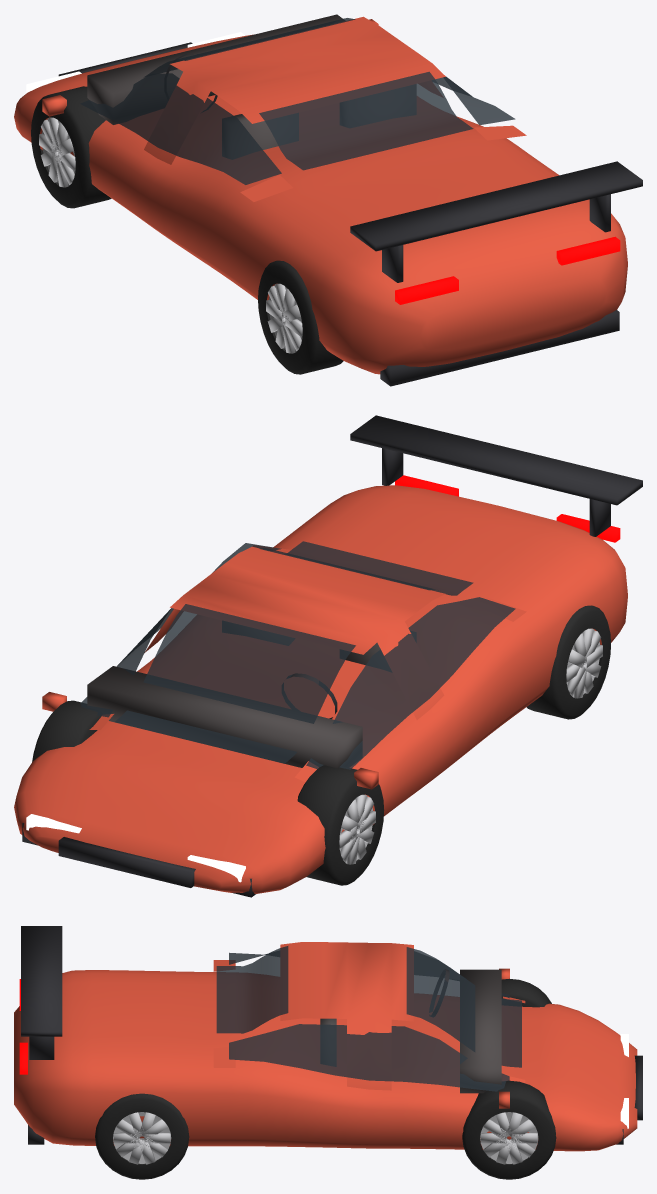
Rendered from car06_vortex.glb.
The picture shows the model from 3 angles, top to bottom: view 1: azimuth 30°, elevation 25°; view 2: azimuth 150°, elevation 25°; view 3: azimuth 270°, elevation 25°; orthographic projection. The views are drawn at different scales.
Visible parts, largest first — view 1: car06_vortex_Body, car06_vortex_Cabin, car06_vortex_GlassRear, car06_vortex_Glass, car06_vortex_Interior, car06_vortex_Wheel_FL, car06_vortex_Wheel_RL, car06_vortex_Lights_Rear, car06_vortex_GlassFront, car06_vortex_Lights_Front; view 2: car06_vortex_Body, car06_vortex_Cabin, car06_vortex_GlassFront, car06_vortex_Interior, car06_vortex_Glass, car06_vortex_Wheel_FL, car06_vortex_Wheel_RL, car06_vortex_GlassRear, car06_vortex_Wheel_FR, car06_vortex_Lights_Rear, car06_vortex_Lights_Front; view 3: car06_vortex_Body, car06_vortex_Cabin, car06_vortex_Glass, car06_vortex_Wheel_FR, car06_vortex_Wheel_RR, car06_vortex_GlassFront, car06_vortex_Interior, car06_vortex_GlassRear, car06_vortex_Wheel_FL.
Part boxes in pixels (x1,y1,x2,y2): car06_vortex_Body: (14,19,642,386); car06_vortex_Cabin: (144,16,526,201); car06_vortex_GlassRear: (259,71,473,170); car06_vortex_Glass: (80,73,515,184); car06_vortex_Interior: (87,14,415,159); car06_vortex_Wheel_FL: (31,86,111,208); car06_vortex_Wheel_RL: (258,260,343,374); car06_vortex_Lights_Rear: (395,236,620,304); car06_vortex_GlassFront: (143,18,355,77); car06_vortex_Lights_Front: (26,32,245,93); car06_vortex_Body: (14,415,642,897); car06_vortex_Cabin: (89,546,526,782); car06_vortex_GlassFront: (114,604,355,763); car06_vortex_Interior: (87,621,415,768); car06_vortex_Glass: (80,543,515,769); car06_vortex_Wheel_FL: (297,765,384,885); car06_vortex_Wheel_RL: (526,605,610,719); car06_vortex_GlassRear: (259,541,473,595); car06_vortex_Wheel_FR: (32,700,101,761); car06_vortex_Lights_Rear: (395,475,620,542); car06_vortex_Lights_Front: (26,814,245,882); car06_vortex_Body: (14,926,642,1151); car06_vortex_Cabin: (213,942,525,1090); car06_vortex_Glass: (229,951,509,1091); car06_vortex_Wheel_FR: (462,1080,556,1179); car06_vortex_Wheel_RR: (95,1093,189,1179); car06_vortex_GlassFront: (406,947,521,1067); car06_vortex_Interior: (320,969,501,1093); car06_vortex_GlassRear: (216,946,288,1033); car06_vortex_Wheel_FL: (501,978,551,1007).
Size of what is drawn, in the model's own units: 2.22 by 1.14 by 4.54.
